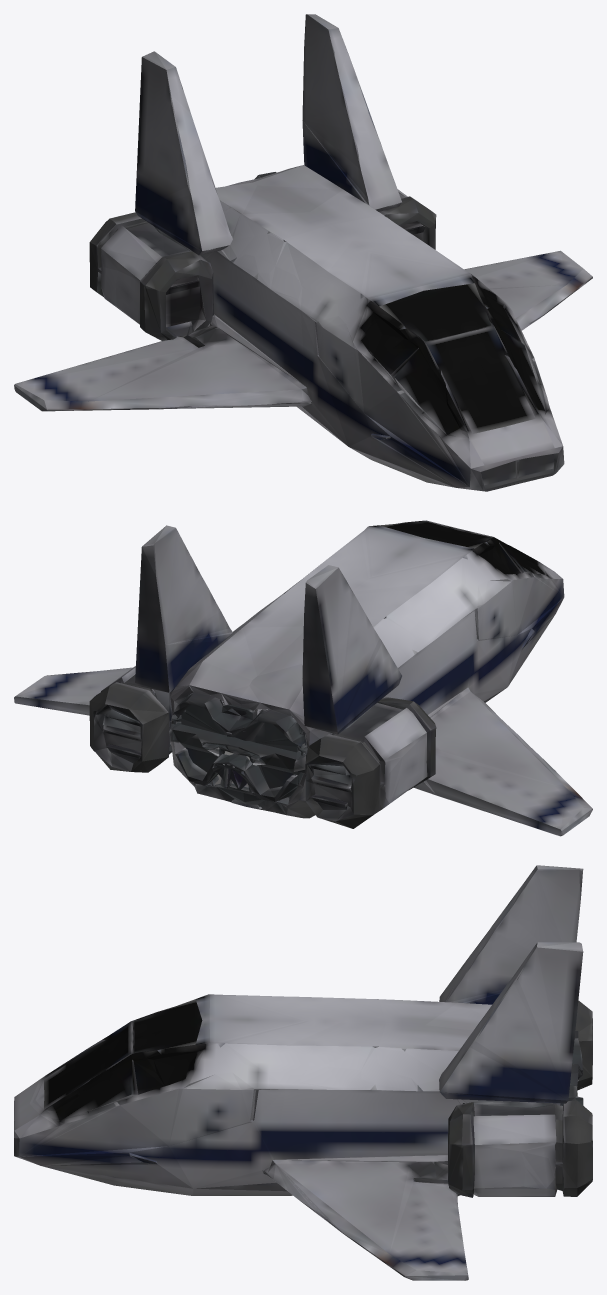
The picture shows the model from 3 angles, top to bottom: view 1: azimuth 30°, elevation 25°; view 2: azimuth 150°, elevation 25°; view 3: azimuth 270°, elevation 25°; orthographic projection. The views are drawn at different scales.
Visible parts, largest first — view 1: world; view 2: world; view 3: world.
Part boxes in pixels (x1,y1,x2,y2): world: (14,14,592,491); world: (14,520,592,836); world: (14,865,592,1280).
Bounding box in the file's own units: 1 × 0.4709 × 0.9383.
1 material, 1 textured.
